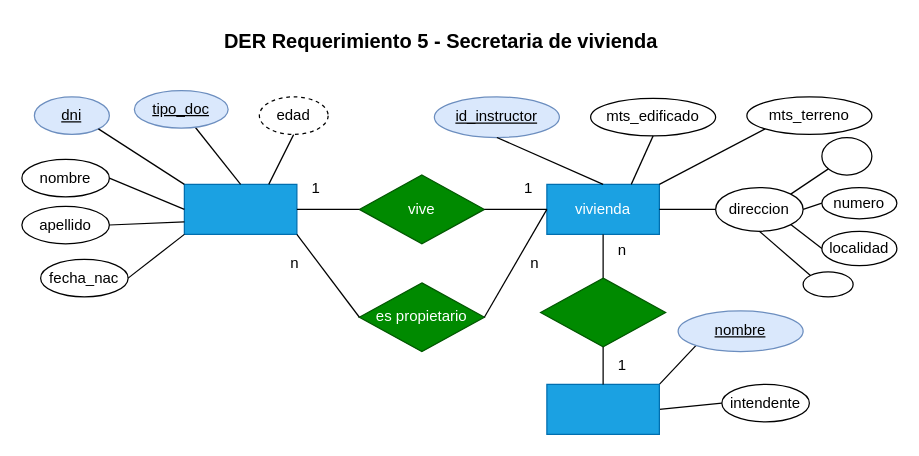
The diagram is 919 pixels wide and 456 high, and some of its shapes have lost their labels. The box of each missing label's shape, as (x1, y1, x2, y2) in pixels:
calle: (821, 136, 872, 175)
cp: (802, 271, 853, 297)
habitante: (183, 183, 297, 234)
municipio: (546, 383, 659, 434)
pertenece: (539, 277, 666, 347)
